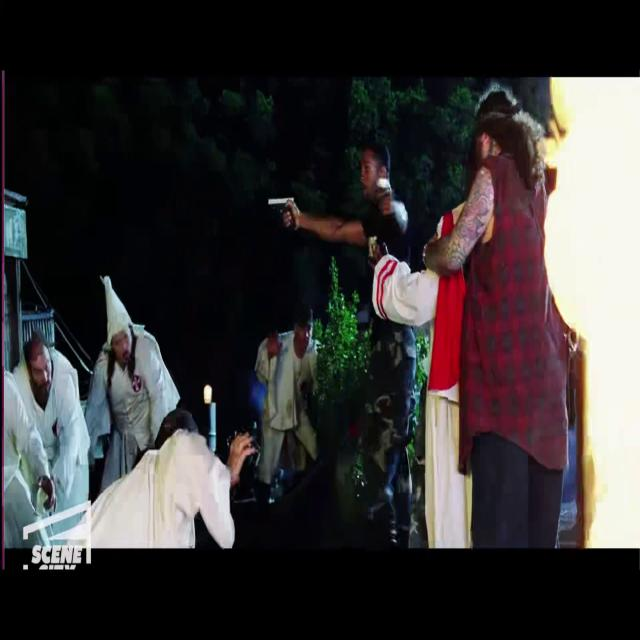weapons: (256, 179, 304, 258)
